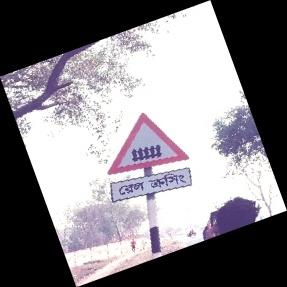Rail-crossing: (102, 116, 190, 204)
